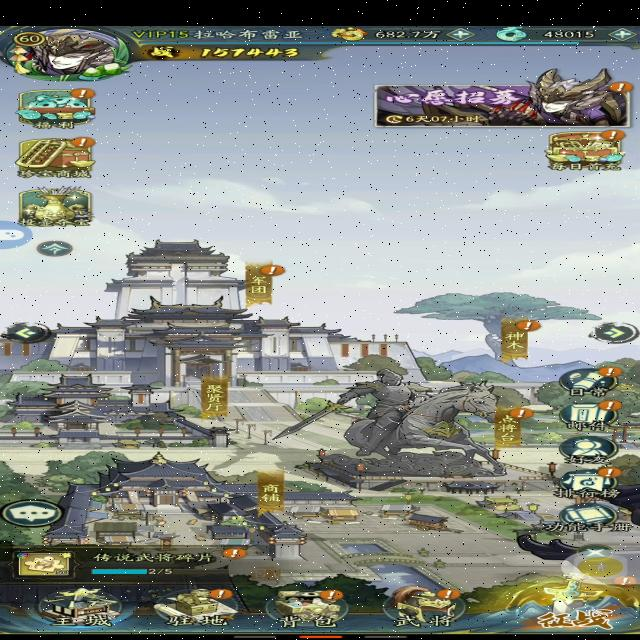hint-reddot: (597, 79, 636, 95), (215, 546, 250, 562), (590, 362, 620, 380), (204, 586, 241, 600), (514, 318, 550, 332), (87, 586, 120, 601), (432, 587, 464, 602), (591, 465, 624, 479), (600, 125, 627, 142), (258, 261, 286, 277), (508, 407, 536, 421), (317, 589, 345, 602), (594, 400, 620, 414), (616, 575, 632, 590)
navigation-DailyDiscount: (532, 128, 631, 177)
navigation-bag: (265, 584, 357, 628)
navigation-dianjiangtai: (486, 402, 535, 452)
navigation-fight: (486, 572, 640, 637)
navigation-friends: (552, 434, 628, 468)
navigation-hero: (376, 578, 481, 632)
navigation-juntuan-on: (241, 255, 282, 307)
navigation-juxianting: (192, 372, 236, 424)
navigation-mail: (556, 400, 618, 432)
navigation-main: (25, 582, 128, 629)
navigation-rank: (541, 463, 625, 503)
navigation-role: (3, 23, 135, 81)
navigation-shenmu: (492, 315, 540, 366)
navigation-shop-on: (249, 464, 294, 512)
navigation-station-on: (136, 580, 252, 632)
navigation-touhuting: (15, 183, 108, 230)
navigation-treasureMall: (12, 134, 107, 182)
navigation-welfare: (13, 86, 104, 133)
operation-close: (573, 542, 618, 561)
